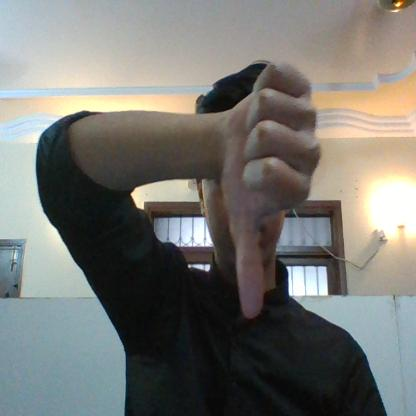thumbs-down: (229, 64, 318, 318)
